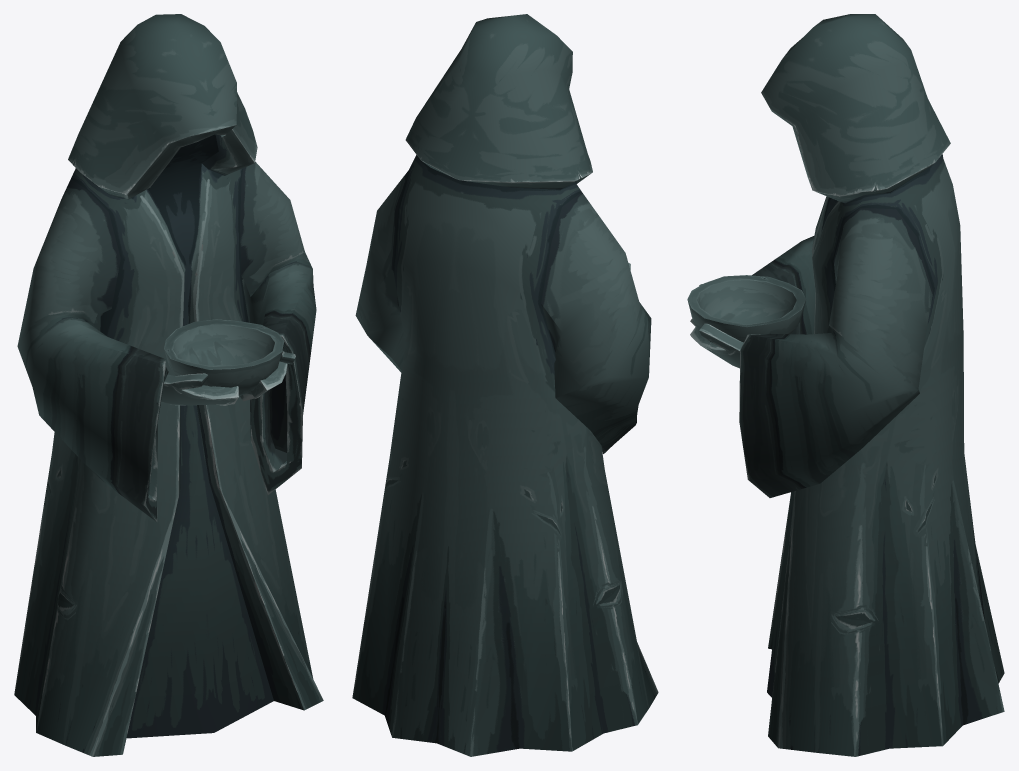
The model's file is SM_PROP_statue_city_01.fbx.
The picture shows the model from 3 angles, left to right: view 1: azimuth 30°, elevation 25°; view 2: azimuth 150°, elevation 25°; view 3: azimuth 270°, elevation 25°; orthographic projection.
Parts seen in each view (by area): view 1: SM_PROP_statue_city_01; view 2: SM_PROP_statue_city_01; view 3: SM_PROP_statue_city_01.
Part boxes in pixels (x1,y1,x2,y2): SM_PROP_statue_city_01: (14, 14, 323, 756); SM_PROP_statue_city_01: (352, 14, 658, 756); SM_PROP_statue_city_01: (687, 14, 1004, 756).
Bounding box in the file's own units: 216 × 497 × 212.
